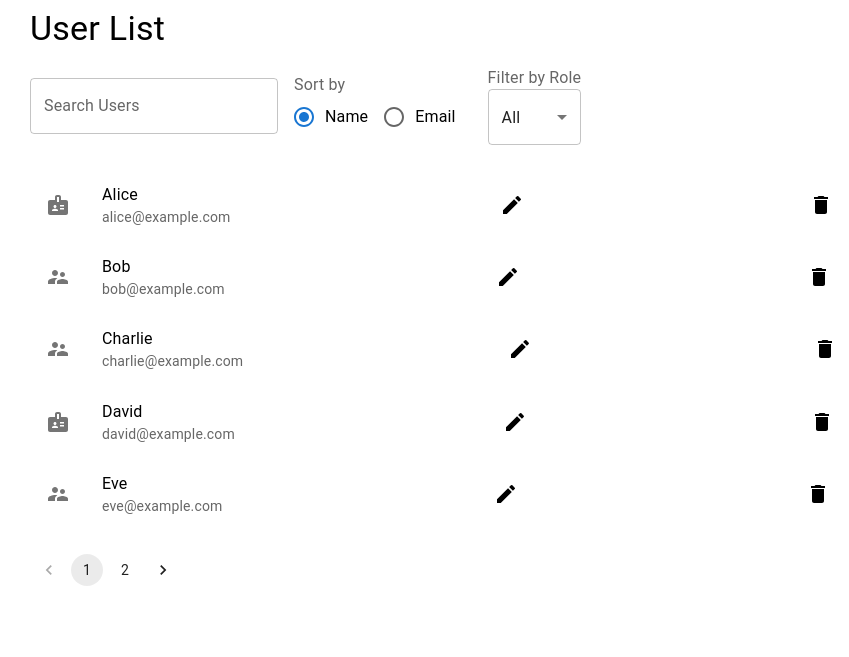
UserEmployeeListMittel › should display a snackbar message when a user is removed
This screenshot has width=849, height=657.
Step 1. Click the button named "delete-Alice" → (821, 206), box [809,194,833,218]
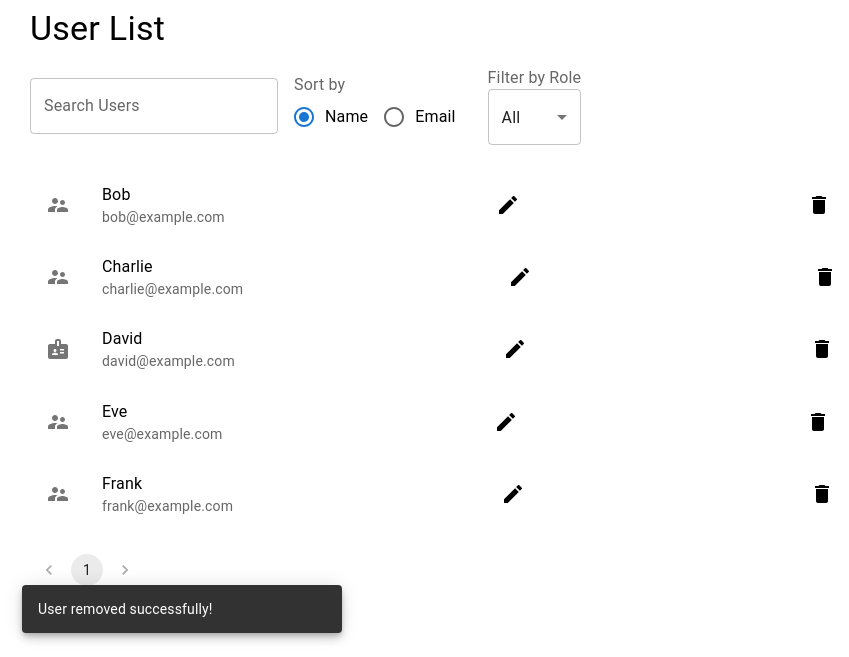
Now the message reads "User removed successfully!", box [38,601,213,617]
